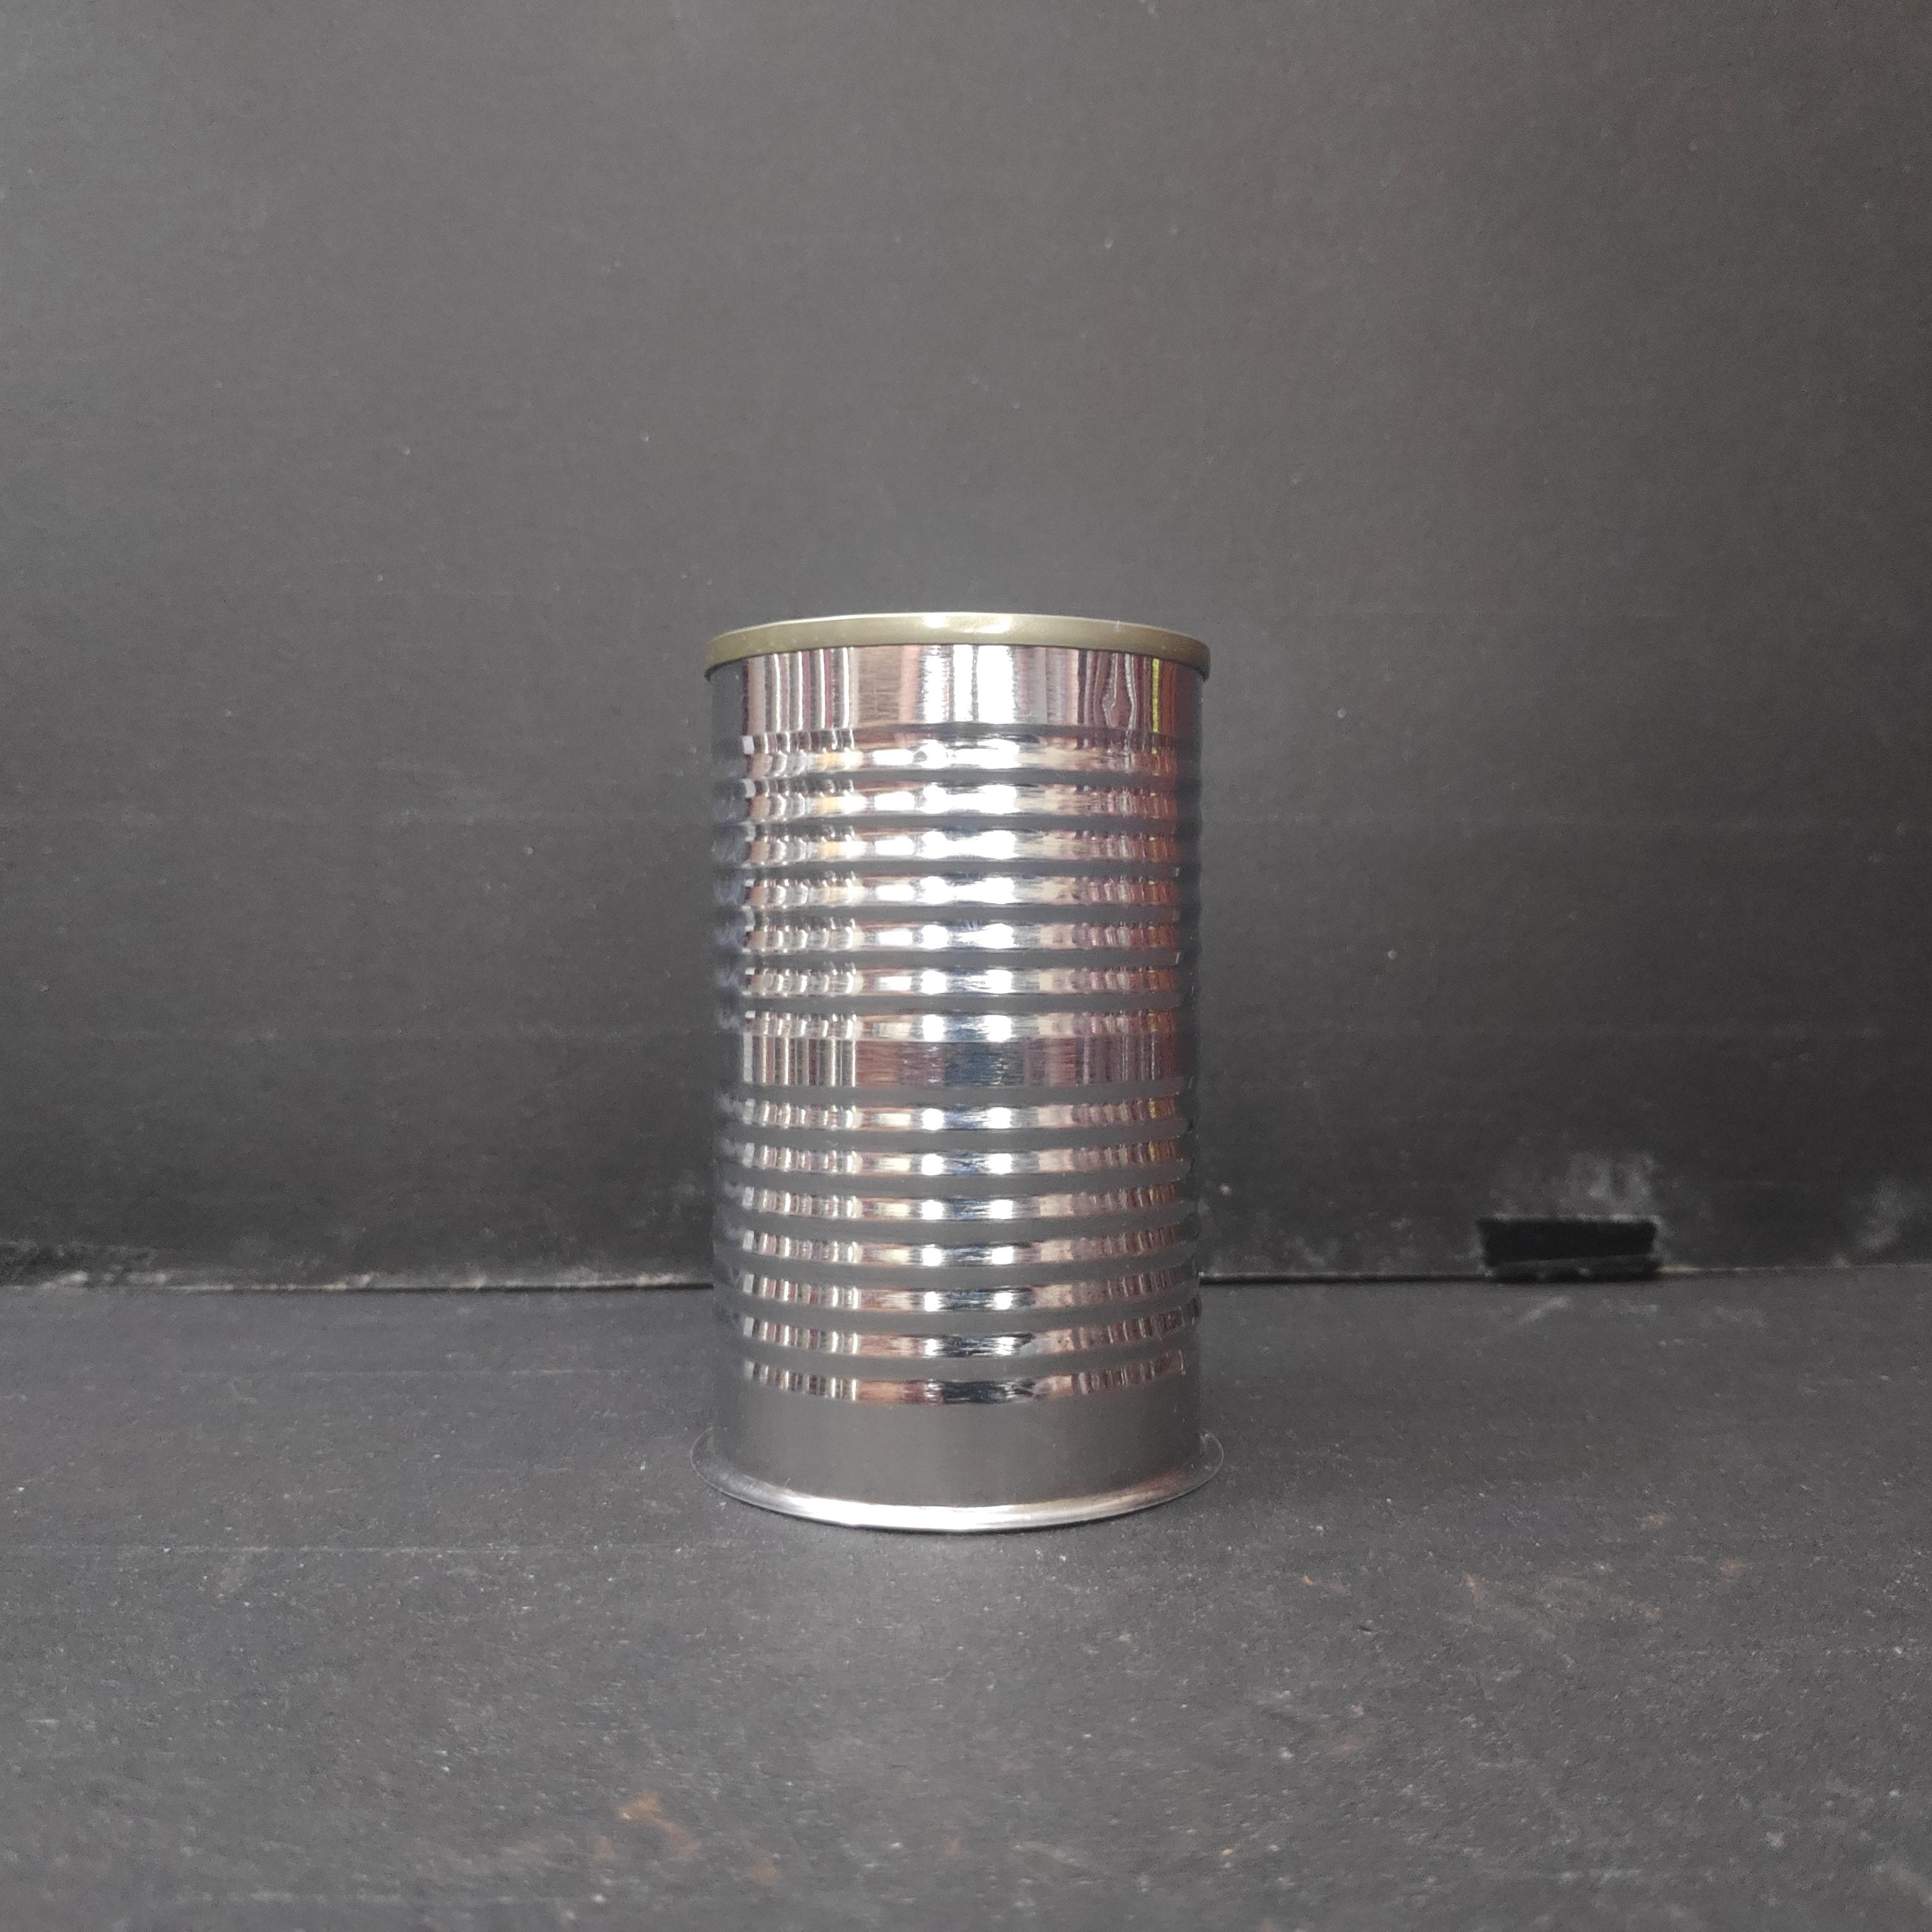No defect: (694, 605, 1219, 1541)
